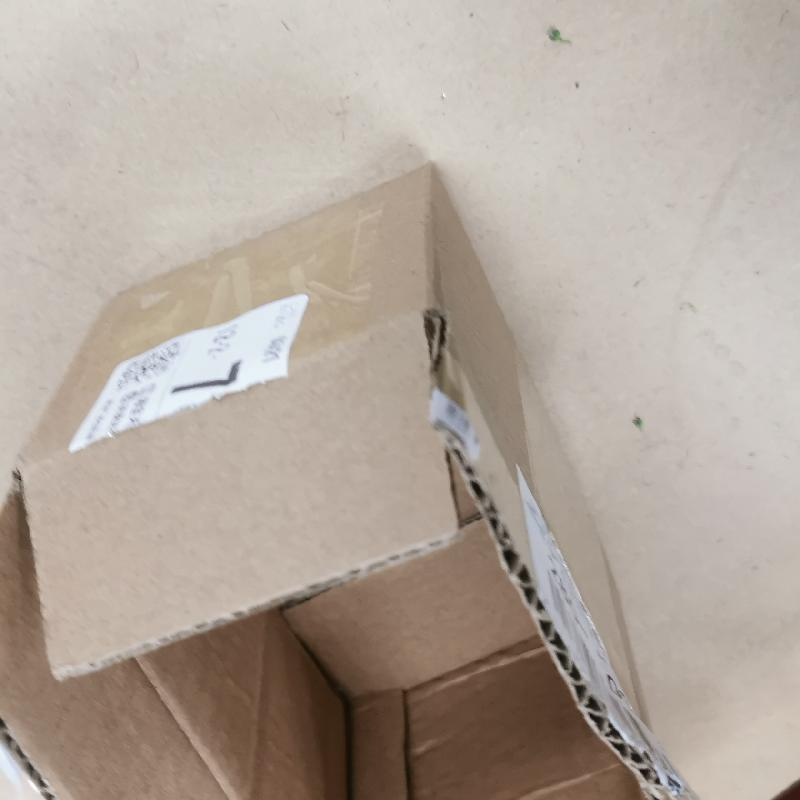boxes: (0, 162, 680, 799)
